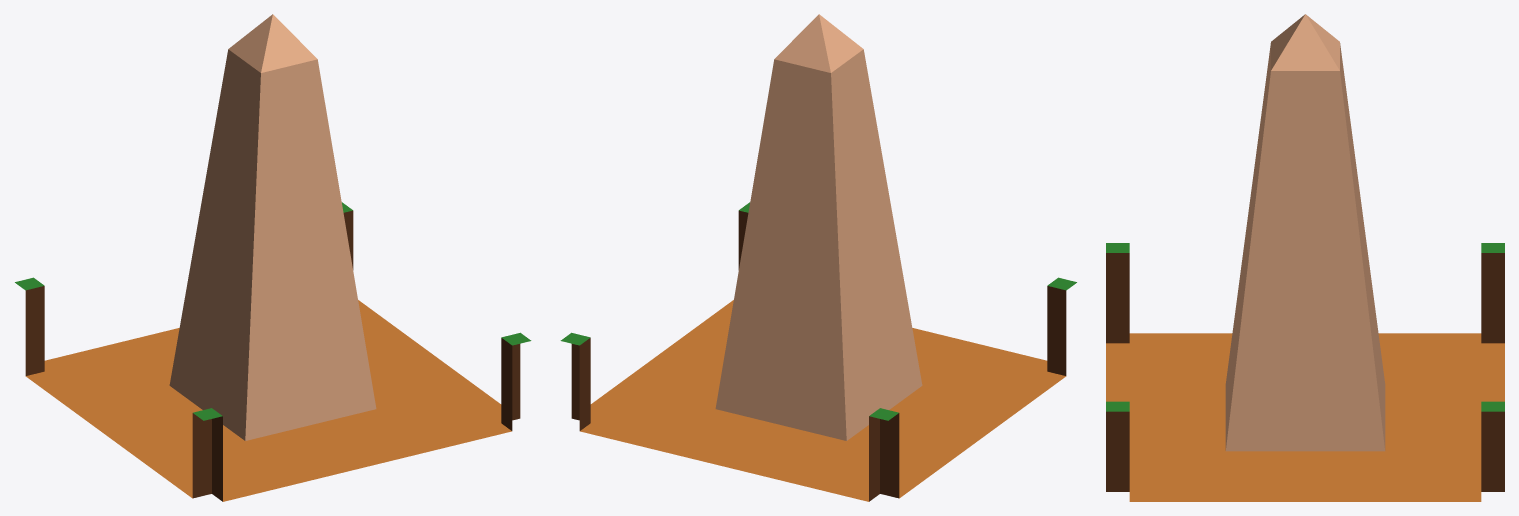
The model's file is Path_4_Way_Target.fbx.
3 renders of one model, left to right at view 1: azimuth 30°, elevation 25°; view 2: azimuth 150°, elevation 25°; view 3: azimuth 270°, elevation 25°, orthographic. The views are drawn at different scales.
Parts seen in each view (by area): view 1: grass; view 2: grass; view 3: grass.
Boxes of the visible parts, x1,y1,x2,y2 form: grass: (15, 14, 531, 501); grass: (560, 14, 1076, 501); grass: (1106, 14, 1504, 501).
Bounding box in the file's own units: 200 × 223 × 200.
